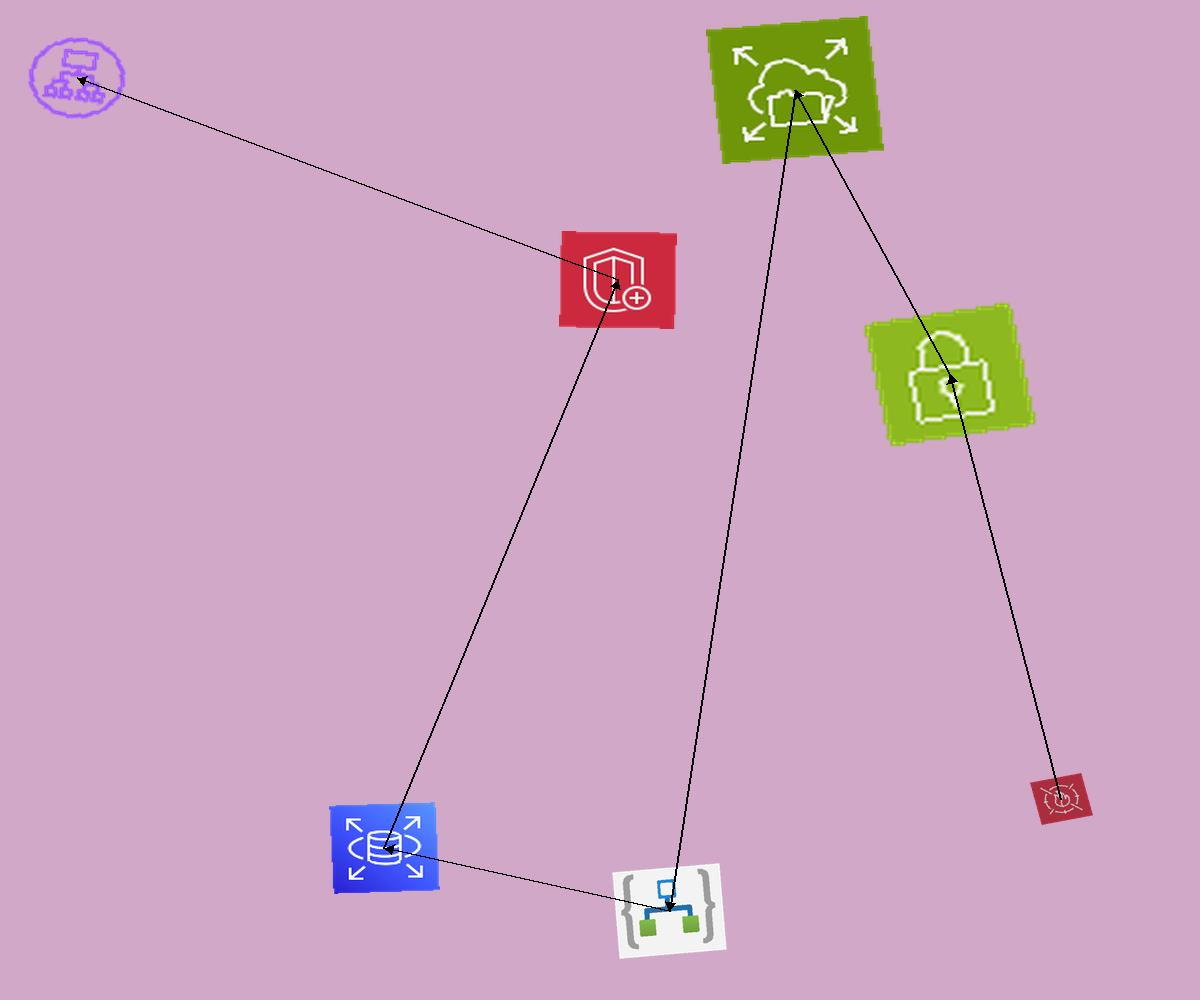AWS-EFS: (706, 16, 884, 164)
AWS-Public-subnet: (861, 300, 1039, 449)
AWS-RDS: (329, 802, 440, 894)
AWS-Res_Elastic-Load-Balancing_Application-Load-Balancer: (16, 27, 138, 129)
AWS-Shield: (559, 231, 677, 329)
AWS-WAF: (1030, 773, 1093, 825)
Azure_integration-204-Logic-Apps: (612, 863, 727, 959)
